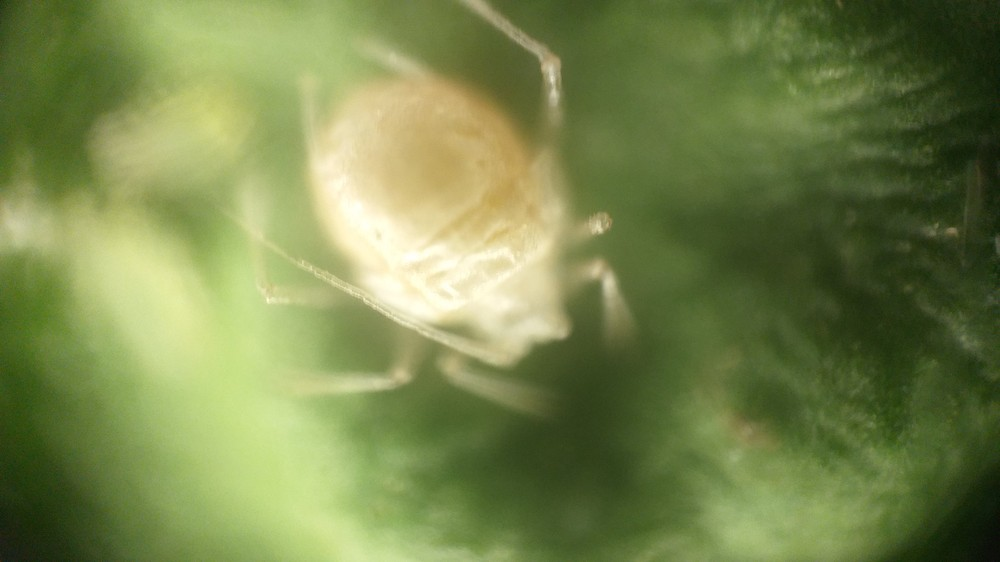Pulgon: (198, 5, 715, 460)
